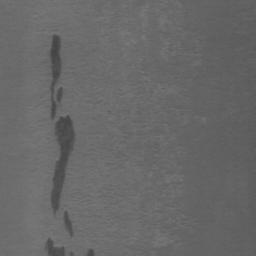Iron scale compression: (49, 36, 75, 220), (45, 238, 75, 256), (62, 211, 73, 238), (86, 249, 94, 256)
